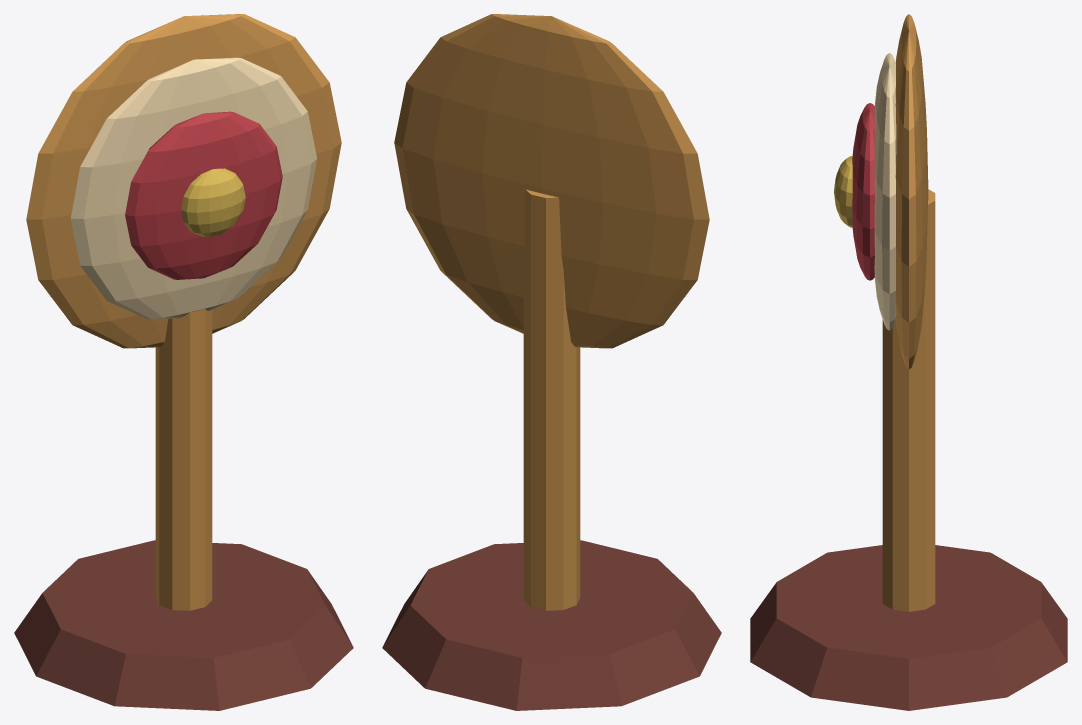
File: Target.fbx
The picture shows the model from 3 angles, left to right: view 1: azimuth 30°, elevation 25°; view 2: azimuth 150°, elevation 25°; view 3: azimuth 270°, elevation 25°; orthographic projection. The views are drawn at different scales.
Parts seen in each view (by area): view 1: Target.005; view 2: Target.005; view 3: Target.005.
Part boxes in pixels (<box>): Target.005: <box>14,14,353,710</box>; Target.005: <box>382,14,721,710</box>; Target.005: <box>750,14,1067,710</box>.
Size of the model in its own units: 64 by 121 by 57.06.
